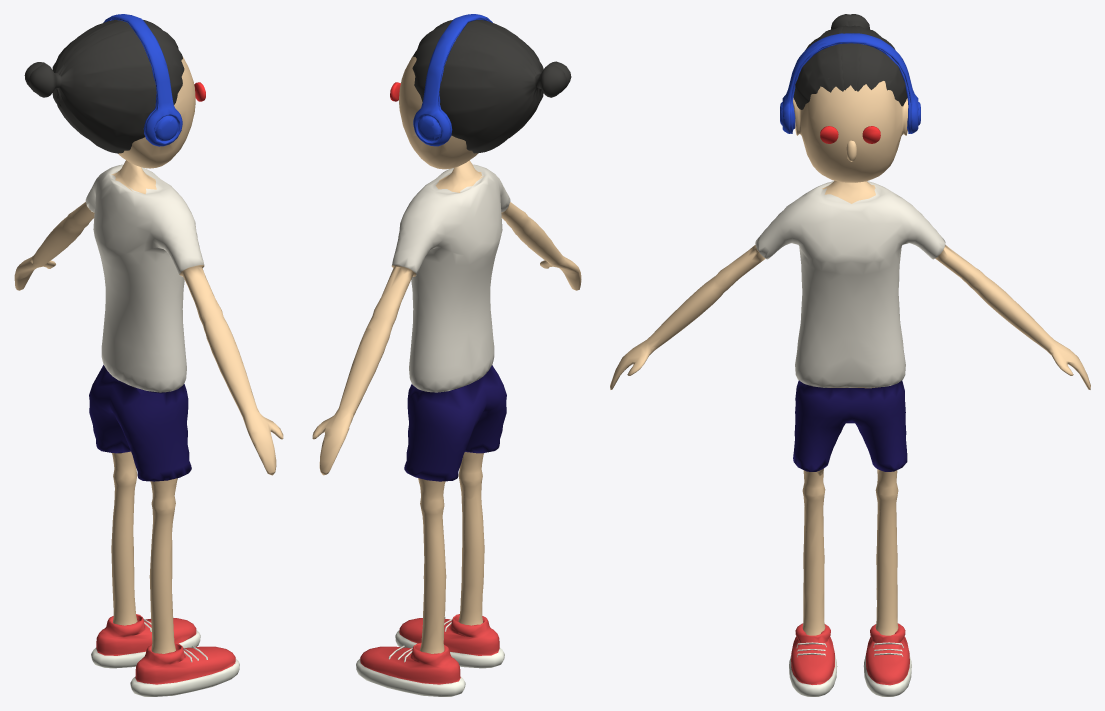
File: skaterguy.fbx
3 views of the same model, side by side, from view 1: azimuth 30°, elevation 25°; view 2: azimuth 150°, elevation 25°; view 3: azimuth 270°, elevation 25° (orthographic). The views are drawn at different scales.
Parts seen in each view (by area): view 1: skaterchac.002; view 2: skaterchac.002; view 3: skaterchac.002.
Part boxes in pixels (bbox=[...]): skaterchac.002: bbox=[14, 14, 283, 696]; skaterchac.002: bbox=[312, 14, 581, 696]; skaterchac.002: bbox=[610, 14, 1090, 696].
Size of the model in its own units: 52.71 by 175 by 122.
